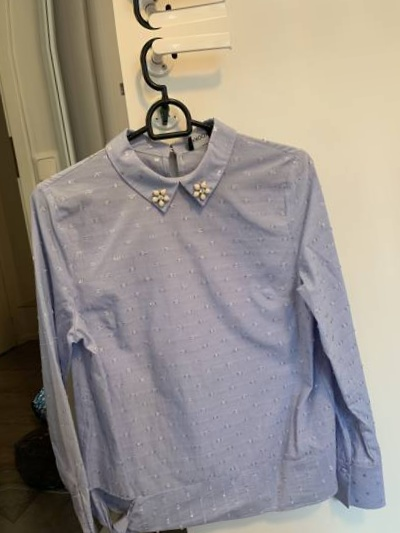Blouse: (0, 78, 398, 533), (392, 26, 400, 531)
